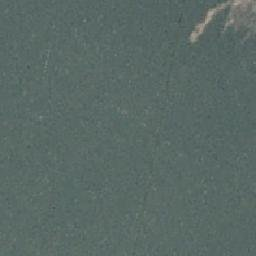debris: (209, 1, 256, 30), (189, 12, 207, 45)
